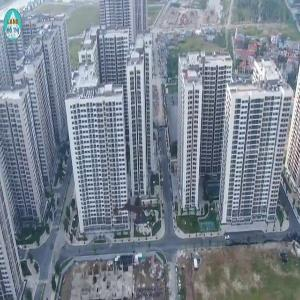drone: (101, 177, 170, 246)
